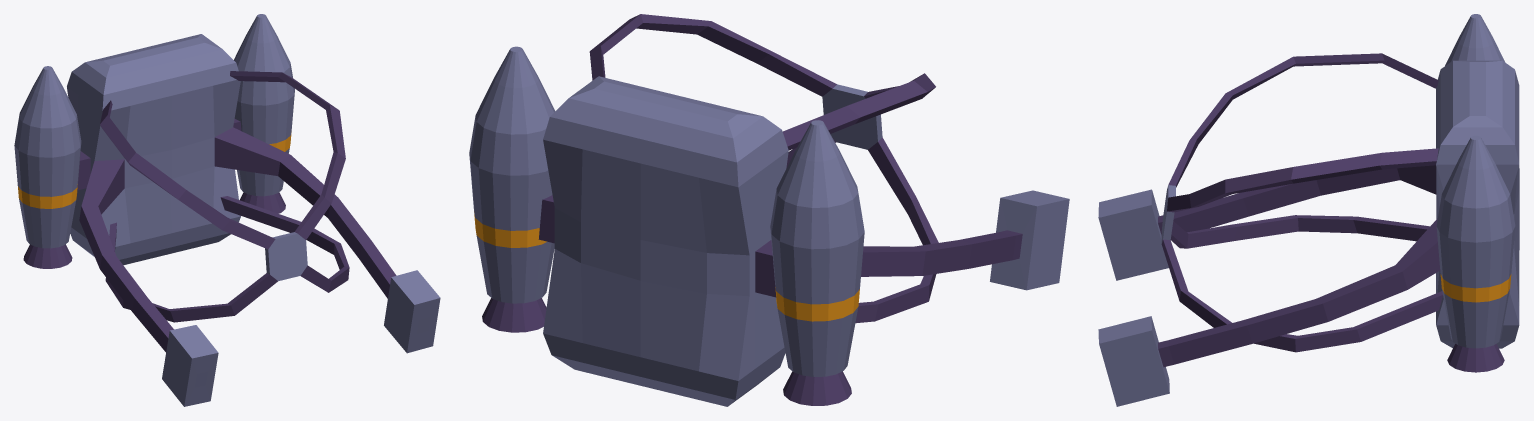
Rendered from Jetpack.fbx.
3 views of the same model, side by side, from view 1: azimuth 30°, elevation 25°; view 2: azimuth 150°, elevation 25°; view 3: azimuth 270°, elevation 25° (orthographic). The views are drawn at different scales.
Parts seen in each view (by area): view 1: Jetpack; view 2: Jetpack; view 3: Jetpack.
Part boxes in pixels (left/top/right/bottom): Jetpack: left=14, top=14, right=440, bottom=406; Jetpack: left=469, top=14, right=1069, bottom=406; Jetpack: left=1098, top=14, right=1519, bottom=406.
Size of the model in its own units: 63.21 by 49.4 by 72.58.
